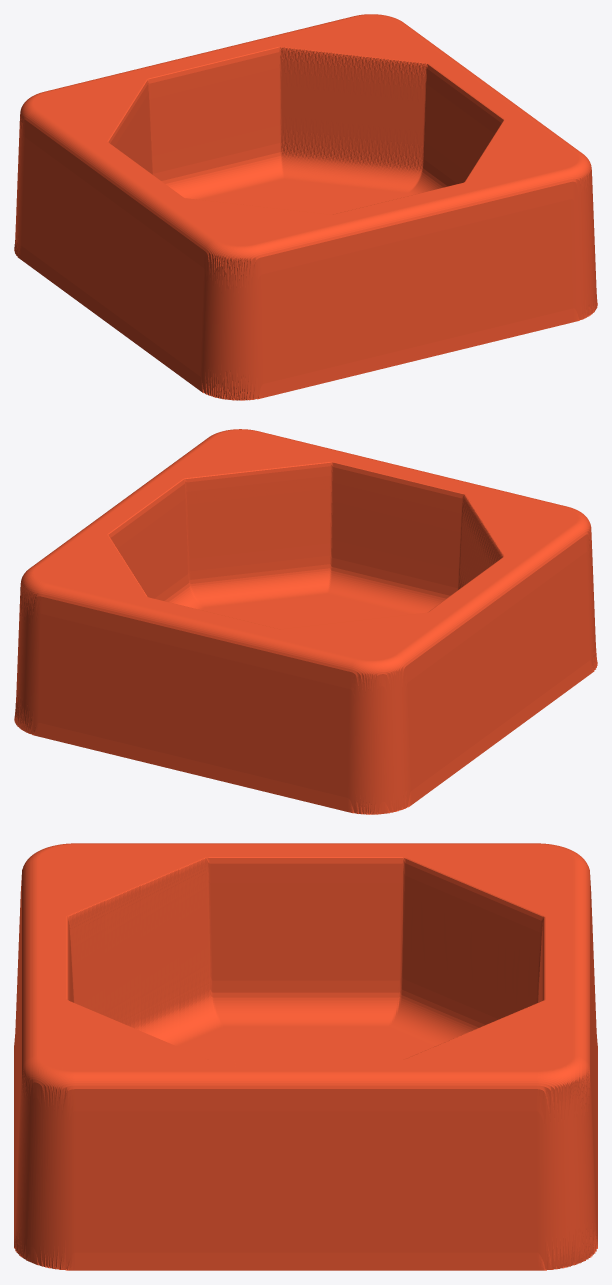
Rendered from mold.glb.
3 views of the same model, one above another, from view 1: azimuth 30°, elevation 25°; view 2: azimuth 150°, elevation 25°; view 3: azimuth 270°, elevation 25° (orthographic). The views are drawn at different scales.
Visible parts, largest first — view 1: geometry_0; view 2: geometry_0; view 3: geometry_0.
Part boxes in pixels (x1=…): geometry_0: x1=14, y1=14, x2=597, y2=400; geometry_0: x1=14, y1=429, x2=597, y2=814; geometry_0: x1=14, y1=843, x2=597, y2=1270.
Size of the model in its own units: 0.0868 by 0.031 by 0.0868.
